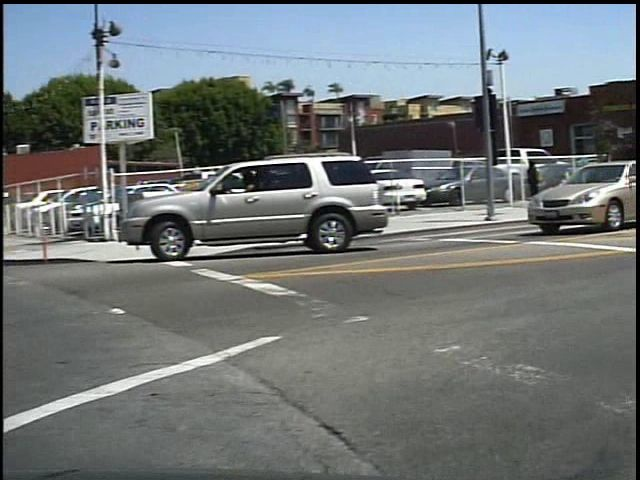person: (527, 158, 551, 214)
